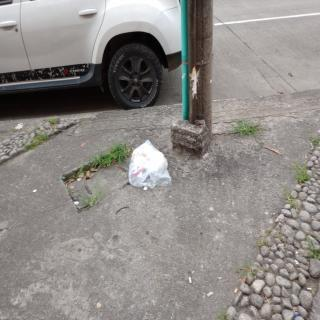Garbage: (126, 138, 176, 192)
